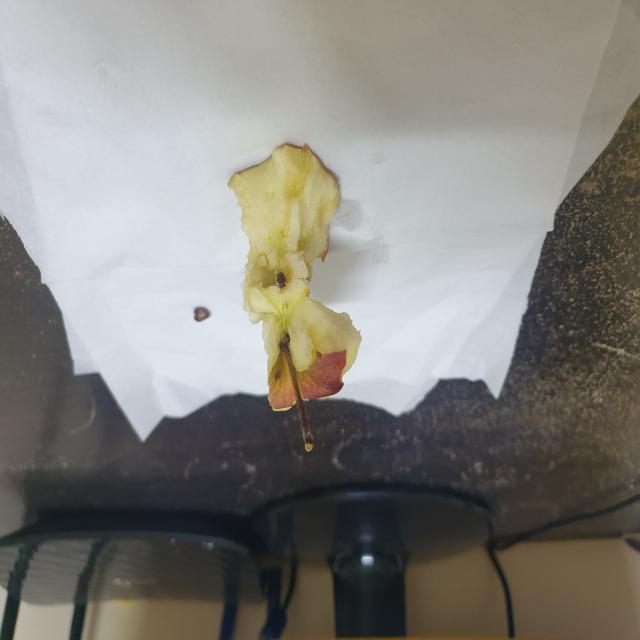apple: (225, 140, 370, 457)
